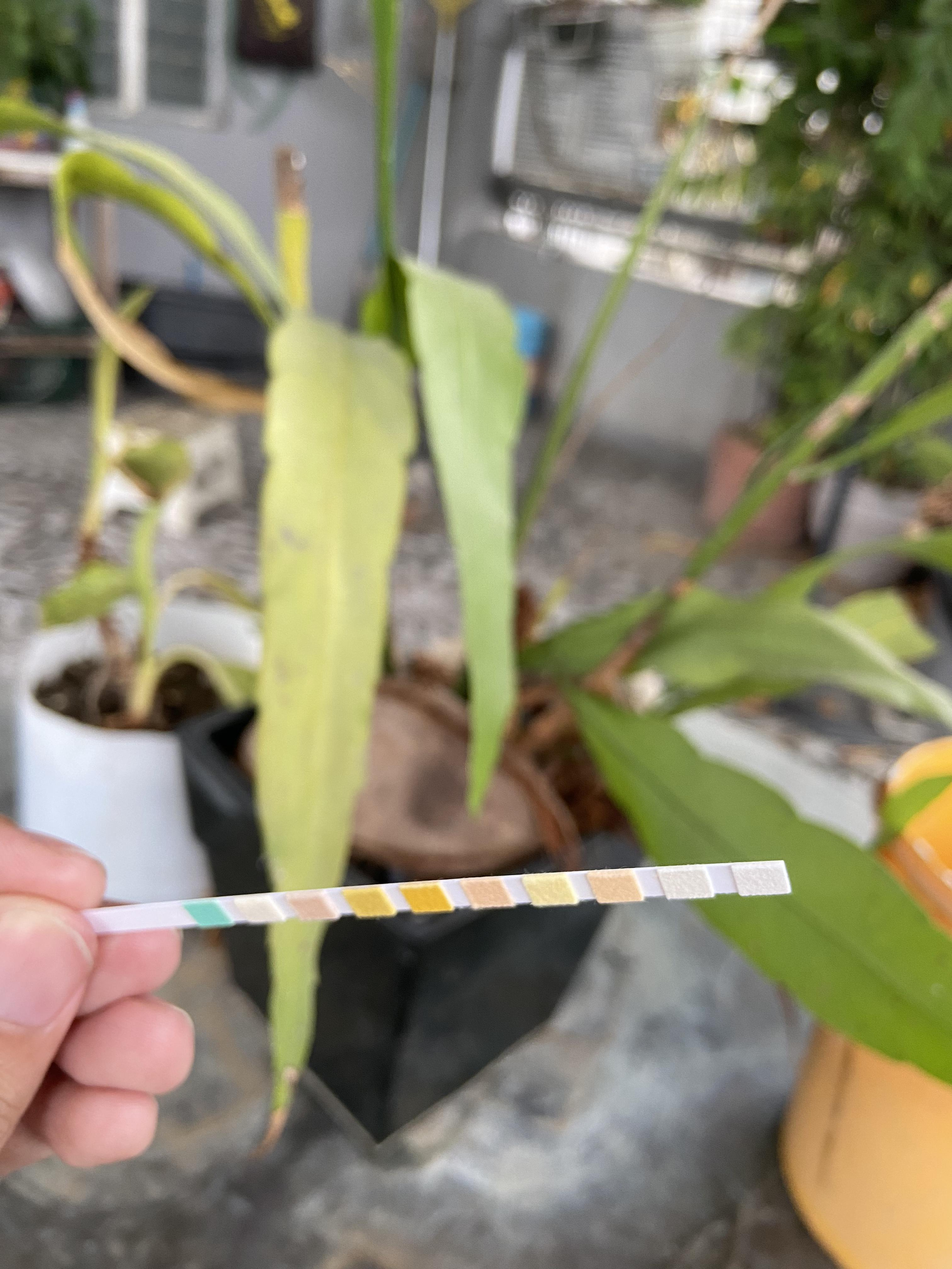Bilirubin: (251, 896, 267, 922)
Blood: (412, 886, 437, 912)
Glucose: (198, 905, 218, 924)
Ketone: (302, 896, 321, 921)
Nitrite: (668, 867, 704, 899)
Protein: (740, 862, 783, 895), (536, 874, 564, 906)
SpGravity: (359, 889, 377, 916)
Urobilinogen: (600, 871, 631, 903)
pH: (474, 879, 500, 906)
strip: (95, 860, 792, 936)
